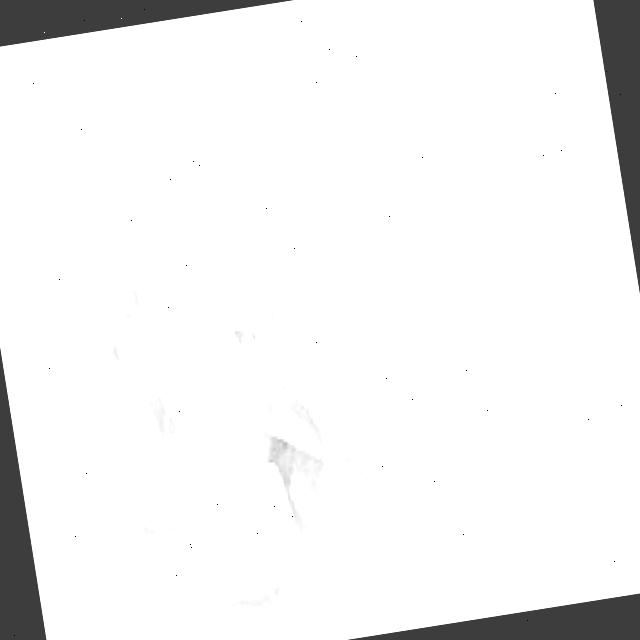trash: (49, 142, 424, 640)
